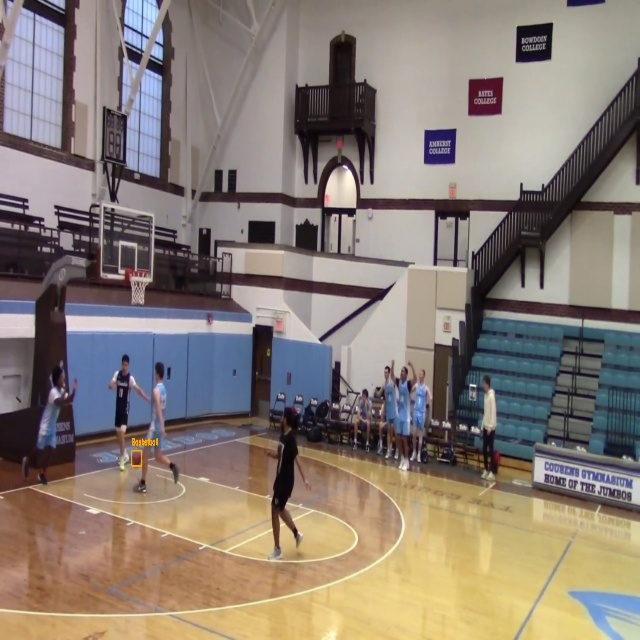Basketball: (132, 451, 142, 466)
